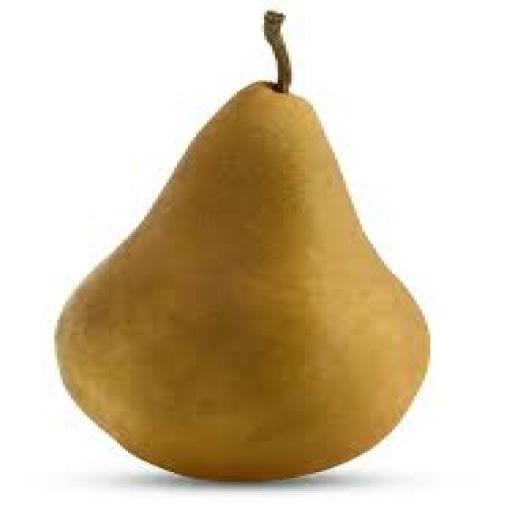pear: (42, 4, 447, 488)
